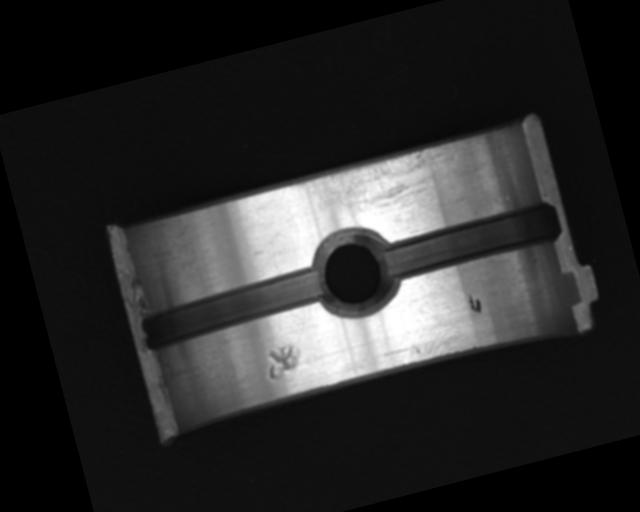blot: (468, 291, 484, 314)
bruise: (262, 342, 305, 382)
gap: (135, 264, 329, 356), (378, 199, 564, 285)
hole: (303, 219, 404, 327)
scratch: (288, 140, 469, 234)
